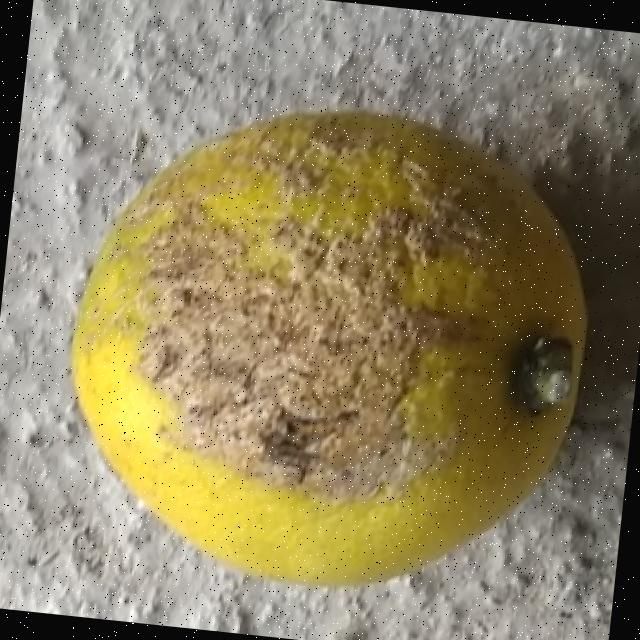overripe: (40, 74, 615, 620)
